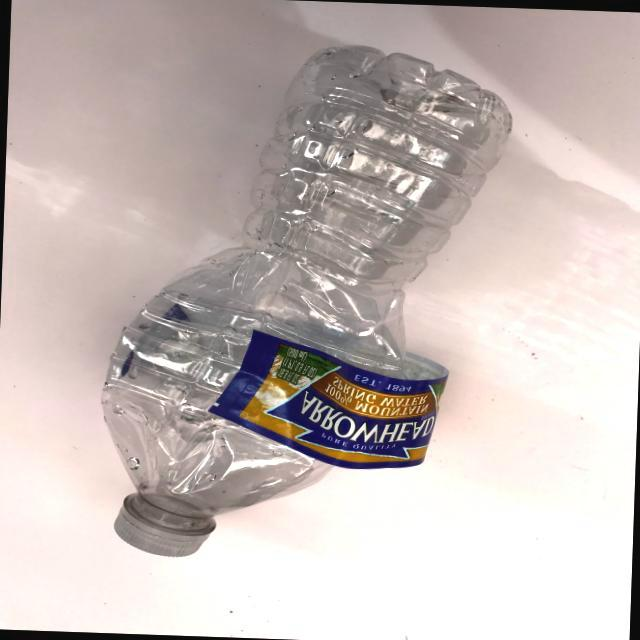plastic: (52, 12, 538, 573)
